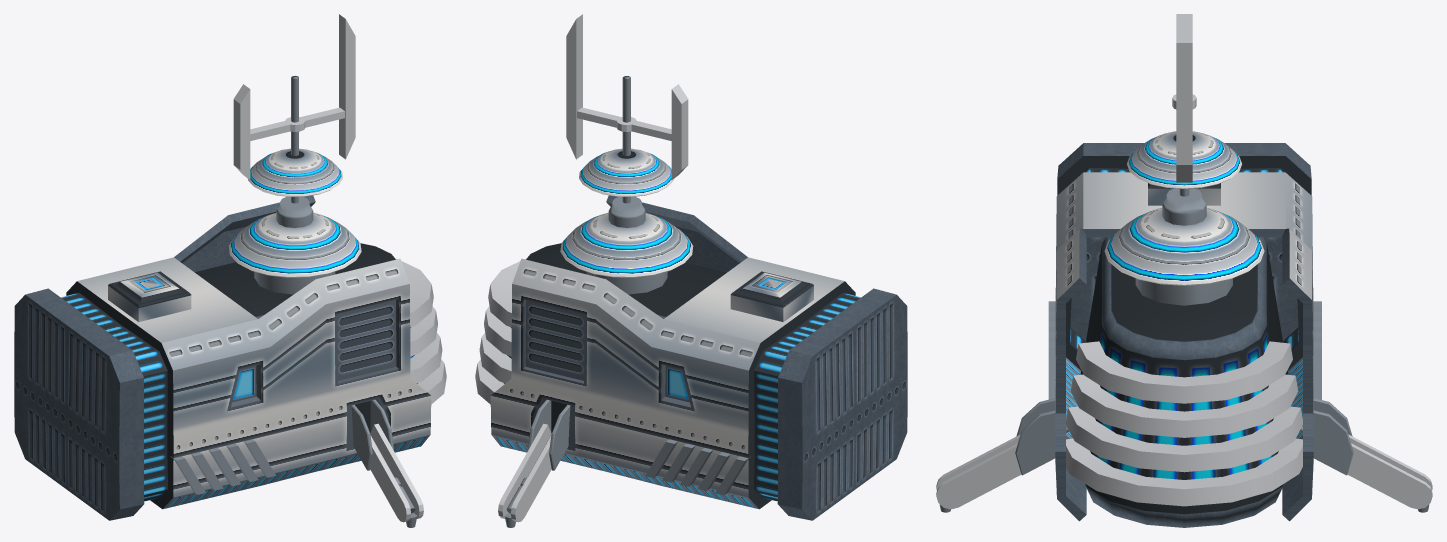
The model's file is Transfer_Satellite1.fbx.
The picture shows the model from 3 angles, left to right: view 1: azimuth 30°, elevation 25°; view 2: azimuth 150°, elevation 25°; view 3: azimuth 270°, elevation 25°; orthographic projection. The views are drawn at different scales.
Parts seen in each view (by area): view 1: pCube1, pSphere1, pSphere4, polySurface1, pCube2, pCube4, pCube3, pCylinder4.001, pCylinder3.001, polySurface14.001, pPipe1, pCylinder9 (+7 smaller); view 2: pCube1, pSphere1, pSphere4, polySurface1, pCube2, pCube4, pCube3, pCylinder4, pCylinder3, polySurface14.001, pPipe1, pCylinder9 (+7 smaller); view 3: pCube1, polySurface1, pSphere1, polySurface14.004, polySurface14.003, polySurface14.002, polySurface14.001, pSphere4, pCube4, pCylinder3.001, pCylinder3, pCylinder2.001 (+6 smaller).
Part boxes in pixels (<box>): pCube1: <box>14,195,431,520</box>; pSphere1: <box>228,212,361,277</box>; pSphere4: <box>248,148,342,196</box>; polySurface1: <box>194,243,417,432</box>; pCube2: <box>108,271,191,321</box>; pCube4: <box>339,14,355,159</box>; pCube3: <box>233,84,250,179</box>; pCylinder4.001: <box>370,436,411,522</box>; pCylinder3.001: <box>370,423,423,518</box>; polySurface14.001: <box>395,258,433,327</box>; pPipe1: <box>250,107,344,140</box>; pCylinder9: <box>276,196,313,228</box>; pCube1: <box>490,195,907,520</box>; pSphere1: <box>560,212,693,277</box>; pSphere4: <box>579,148,673,196</box>; polySurface1: <box>504,243,727,432</box>; pCube2: <box>730,271,813,321</box>; pCube4: <box>566,14,582,159</box>; pCube3: <box>671,84,688,179</box>; pCylinder4: <box>510,436,551,522</box>; pCylinder3: <box>498,423,551,518</box>; polySurface14.001: <box>488,258,526,327</box>; pPipe1: <box>577,107,671,140</box>; pCylinder9: <box>608,196,645,227</box>; pCube1: <box>1055,143,1313,521</box>; polySurface1: <box>1080,237,1288,527</box>; pSphere1: <box>1104,208,1264,285</box>; polySurface14.004: <box>1066,438,1302,506</box>; polySurface14.003: <box>1066,406,1302,472</box>; polySurface14.002: <box>1070,374,1298,437</box>; polySurface14.001: <box>1076,341,1292,403</box>; pSphere4: <box>1127,131,1241,188</box>; pCube4: <box>1176,14,1192,182</box>; pCylinder3.001: <box>936,443,1021,509</box>; pCylinder3: <box>1347,443,1432,509</box>; pCylinder2.001: <box>1015,410,1055,475</box>.
Bounding box in the file's own units: 10.45 × 11.67 × 10.21.
Materials: 3 (1 with a texture image).
